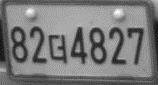2: (28, 25, 47, 63), (107, 26, 126, 64)
4: (70, 25, 87, 64)
7: (126, 26, 144, 64)
8: (88, 26, 107, 64), (10, 25, 28, 62)
더: (48, 33, 67, 63)
